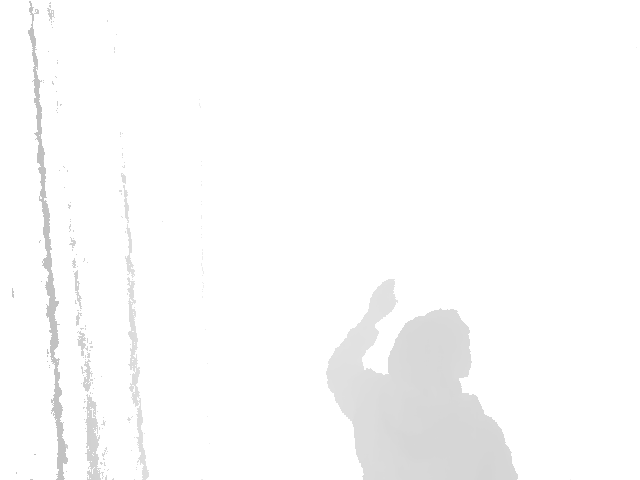hand: (363, 275, 398, 324)
head: (386, 307, 471, 391)
person: (324, 278, 518, 477)
